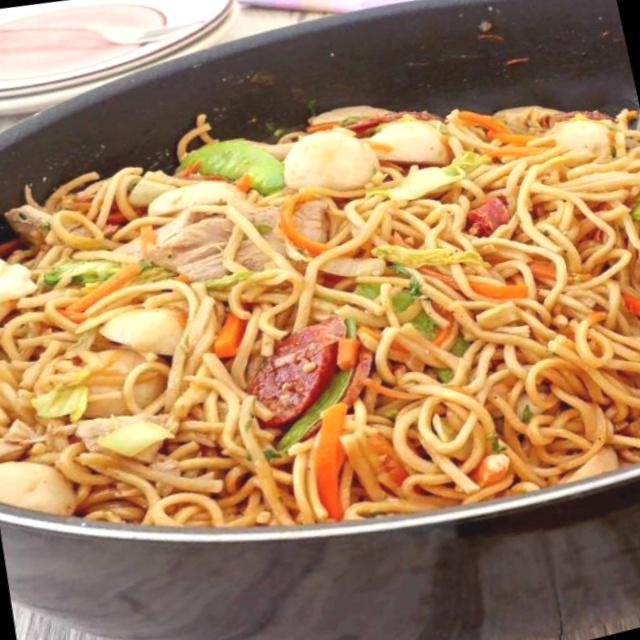pancit bihon: (0, 114, 635, 527)
